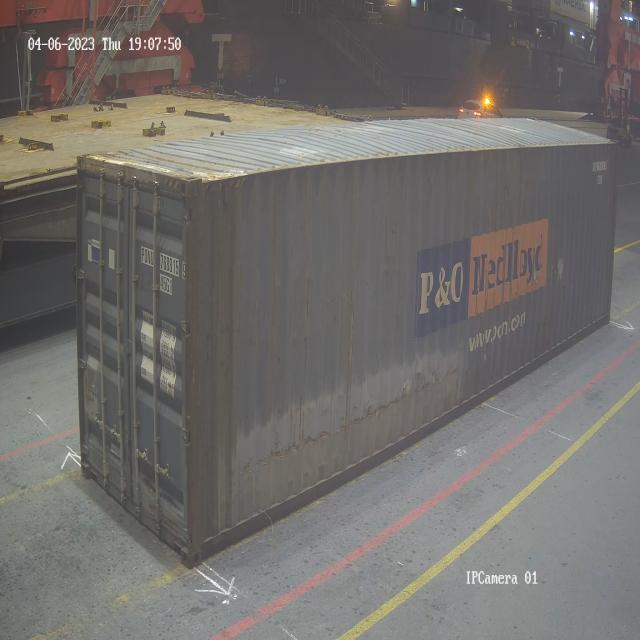dent: (230, 356, 455, 483)
